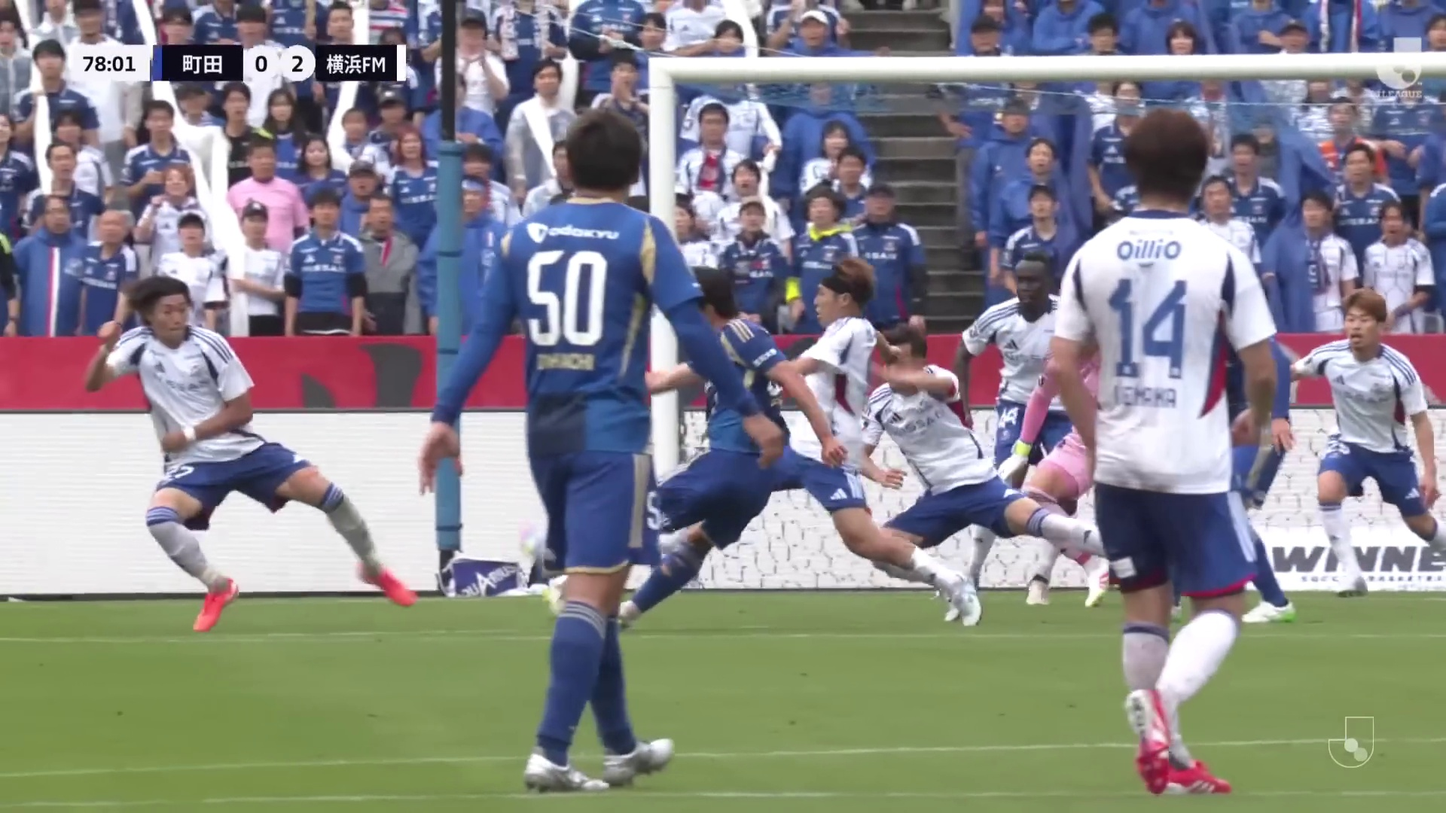player: (412, 106, 747, 791), (1048, 100, 1292, 793), (80, 248, 417, 635), (601, 261, 842, 645), (854, 324, 1117, 636), (771, 252, 982, 634), (957, 252, 1110, 614), (1298, 289, 1446, 599), (239, 648, 243, 649)
